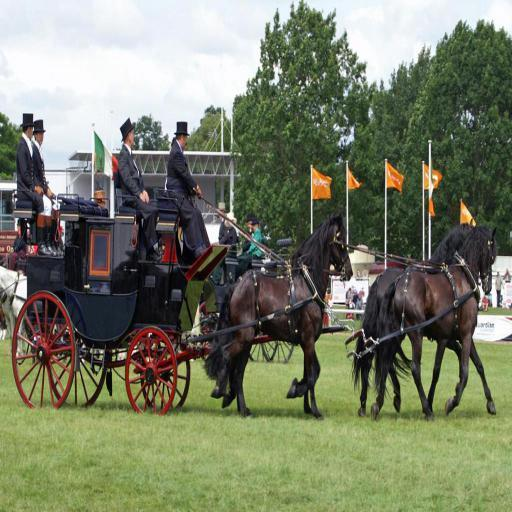horse: (200, 210, 354, 416), (368, 223, 499, 414), (352, 228, 468, 418), (0, 258, 30, 364)
